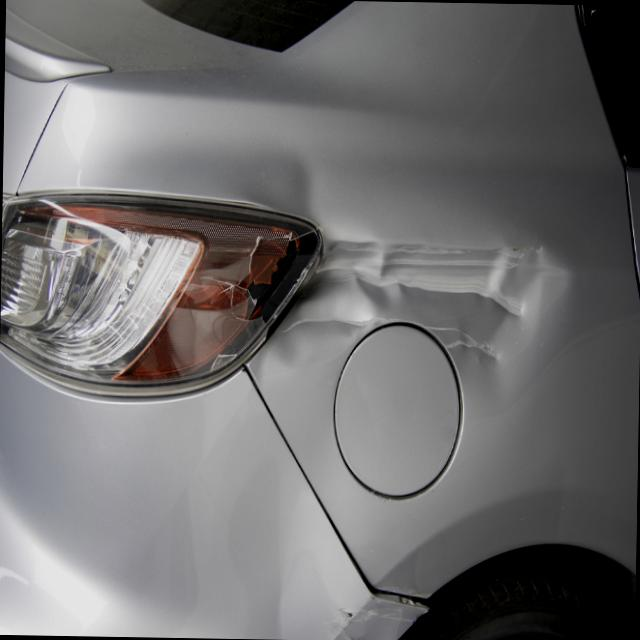Cabossage: (293, 207, 544, 379)
Phare abime: (175, 188, 326, 393)
Rayure: (304, 225, 534, 356), (331, 600, 421, 640)
